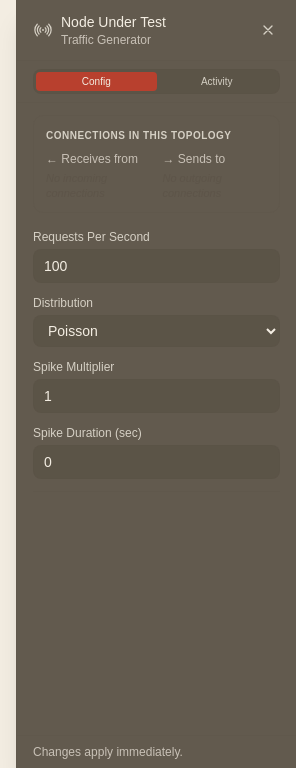
it: NodeConfigPanel activity tab › marks traffic generator latency as not applicable instead of showing 0.0 ms
Click the button "Activity".
click(217, 82)  # box [156, 72, 277, 91]
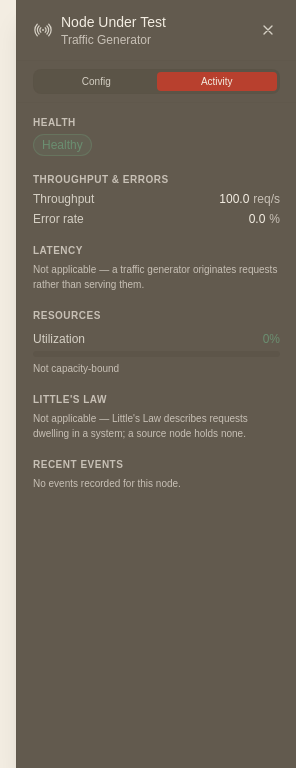
expect the text "originates requests rather than serving them" is shown: met, box [33, 264, 277, 290]
